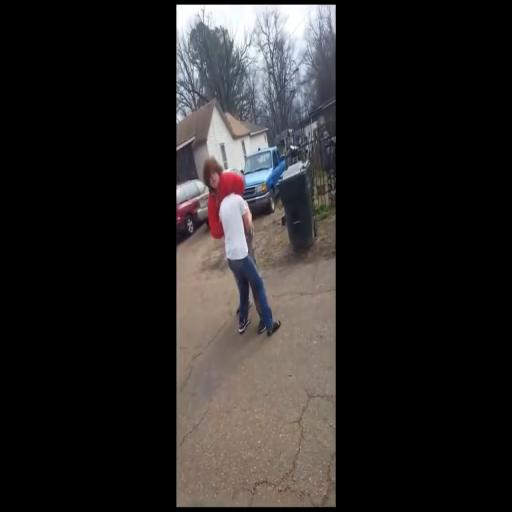violencia: (192, 152, 284, 346)
